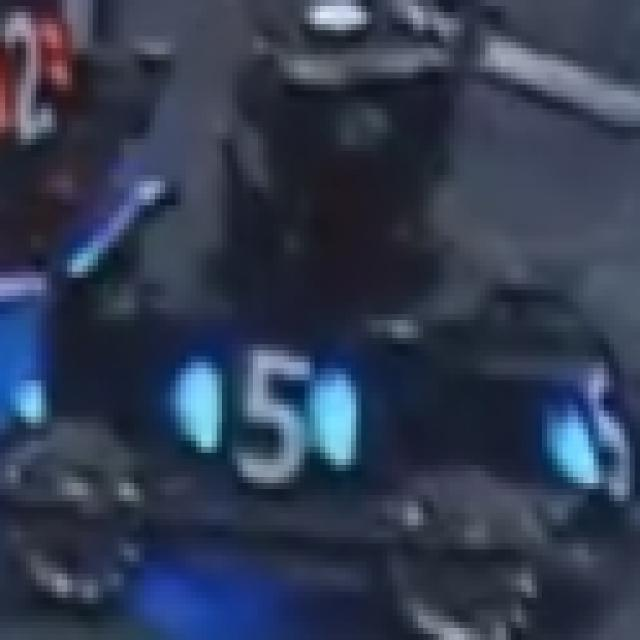B5: (186, 338, 346, 471)
